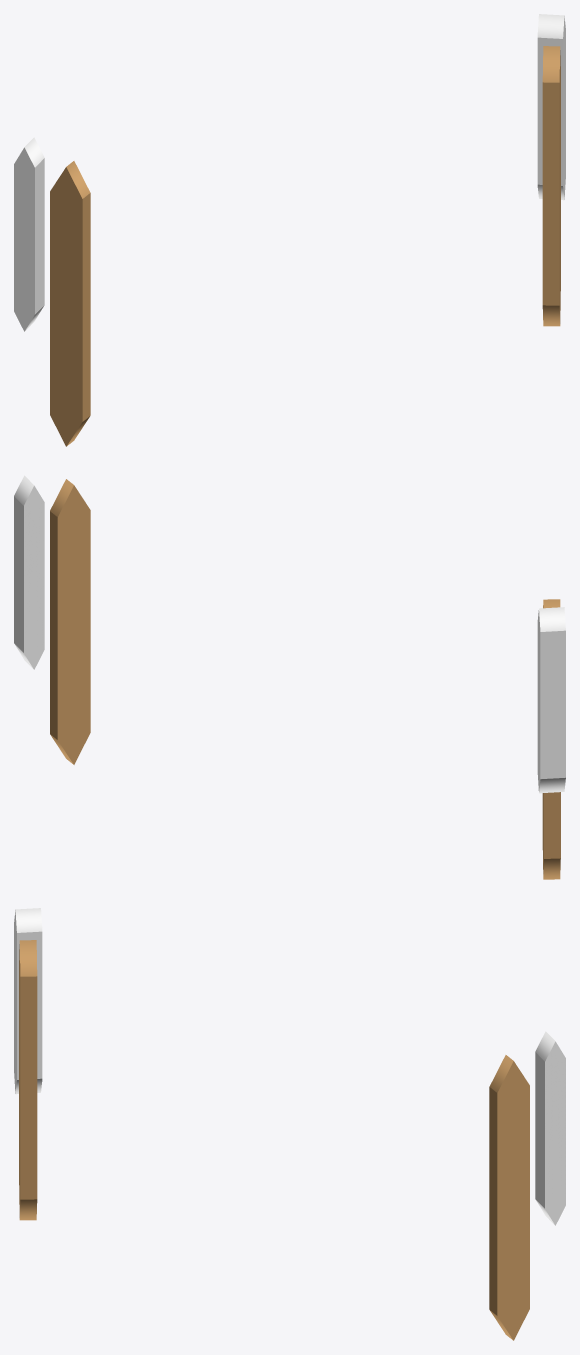
The model's file is SM_Chr_Attach_Earrings_Female_02.fbx.
The picture shows the model from 3 angles, top to bottom: view 1: azimuth 30°, elevation 25°; view 2: azimuth 150°, elevation 25°; view 3: azimuth 330°, elevation 25°; orthographic projection.
Parts seen in each view (by area): view 1: SM_Chr_Attach_Earrings_Female_02; view 2: SM_Chr_Attach_Earrings_Female_02; view 3: SM_Chr_Attach_Earrings_Female_02.
Part boxes in pixels (bbox=[...]): SM_Chr_Attach_Earrings_Female_02: bbox=[14, 14, 565, 446]; SM_Chr_Attach_Earrings_Female_02: bbox=[14, 475, 565, 879]; SM_Chr_Attach_Earrings_Female_02: bbox=[14, 908, 565, 1340].
Size of the model in its own units: 26.59 by 13.43 by 3.25.
